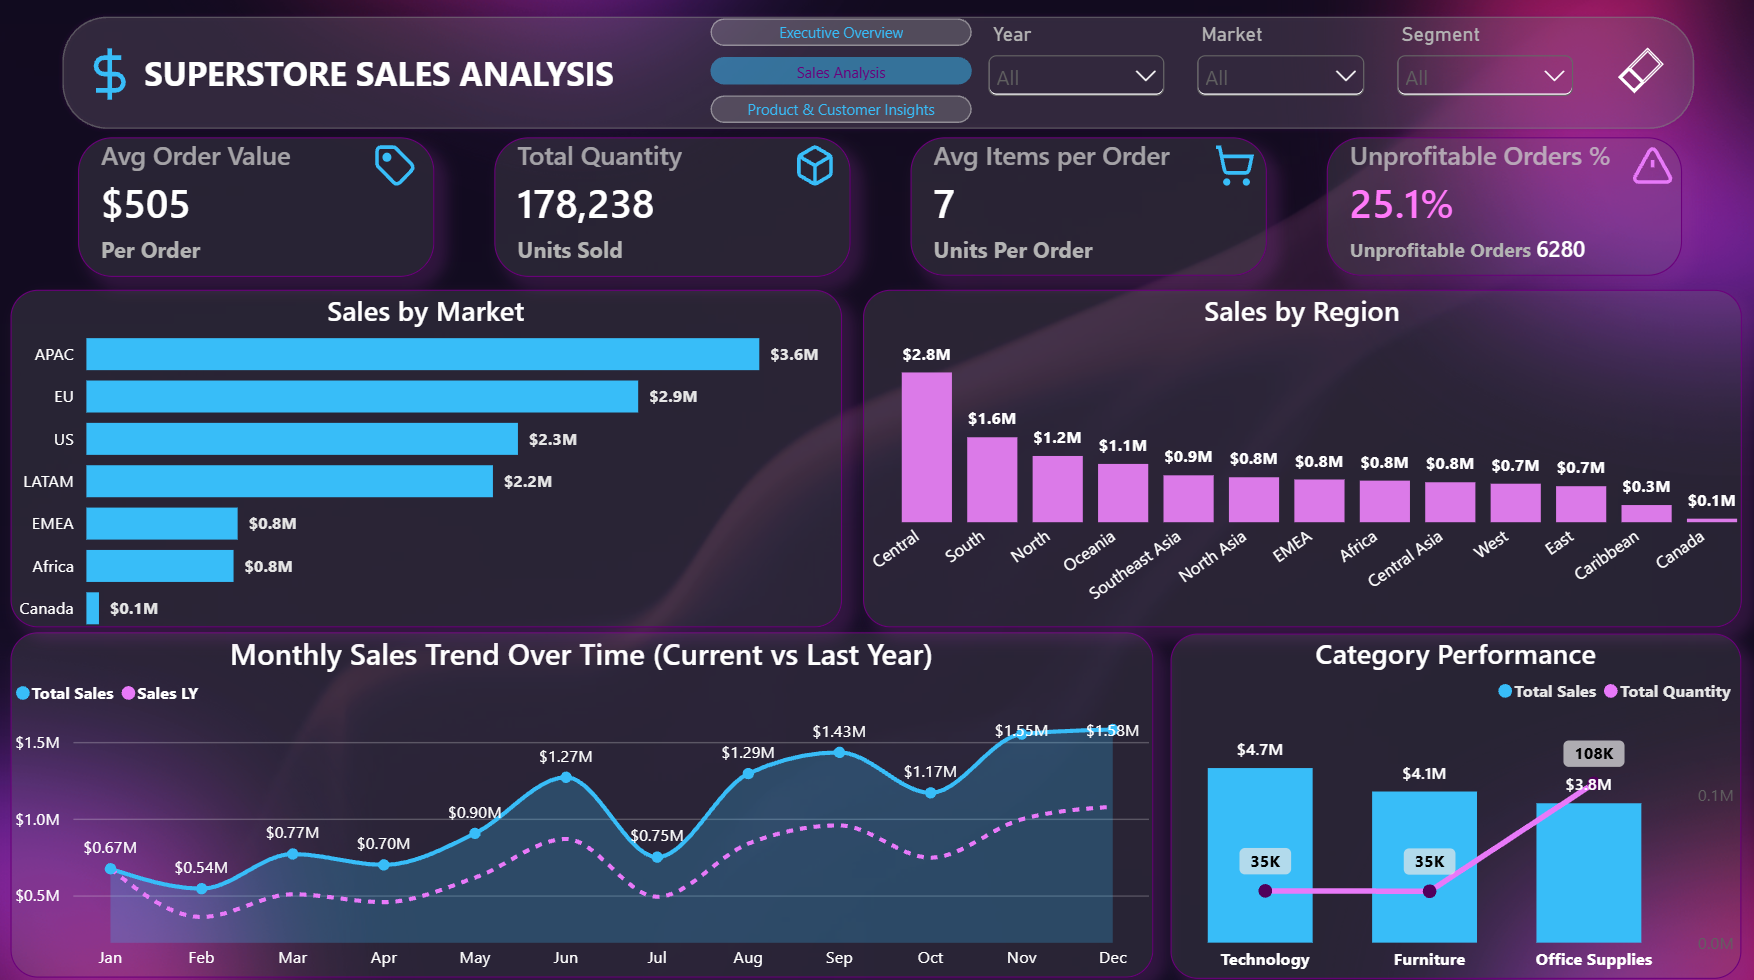

What the dashboard file says about the page in this screenshot:
{"tool":"powerbi","page":{"name":"Sales Analysis","canvas":[1280,720],"ordinal":1},"visuals":[{"type":"shape","box":[43.3,11.5,1193.2,88],"z":0},{"type":"cardVisual","fields":{"Data":["_Measures.AOV"]},"box":[57.8,102.7,258.8,101.2],"z":1000},{"type":"cardVisual","fields":{"Data":["_Measures.Total Quantity"]},"box":[360.5,102.7,258.8,101.2],"z":2000},{"type":"cardVisual","fields":{"Data":["_Measures.Unprofitable Orders %"]},"box":[966.7,102.4,258.3,101],"z":3000},{"type":"cardVisual","fields":{"Data":["_Measures.Avg Items per Order"]},"box":[663.2,102.7,258.8,101],"z":4000},{"type":"slicer","fields":{"Values":["Date_dim.Year"]},"box":[715.3,18.9,137.4,72.4],"z":5000},{"type":"slicer","fields":{"Values":["superstore_sales.market"]},"box":[866.9,18.9,131.3,72.4],"z":6000},{"type":"slicer","fields":{"Values":["superstore_sales.segment"]},"box":[1012.3,18.9,137.4,72.4],"z":7000},{"type":"lineChart","title":"Monthly Sales Trend Over Time (Current vs Last Year)","fields":{"Category":["Date_dim.Month Name"],"Y":["_Measures.Total Sales","_Measures.Sales LY"]},"box":[8.7,463.1,831,251],"z":8000},{"type":"clusteredBarChart","title":"Sales by Market","fields":{"Category":["superstore_sales.market"],"Y":["_Measures.Total Sales"]},"box":[8.7,213.5,604.5,245.3],"z":9000},{"type":"actionButton","box":[1164.3,27.4,60.7,54.9],"z":10000},{"type":"image","box":[57.7,36.1,47.9,40.5],"z":11000},{"type":"image","box":[269,107,39,31.8],"z":12000},{"type":"image","box":[574.6,107,39,31.8],"z":13000},{"type":"image","box":[880.1,107,37.6,31.8],"z":14000},{"type":"image","box":[1184.3,107,37.6,31.8],"z":15000},{"type":"columnChart","title":"Sales by Region","fields":{"Category":["superstore_sales.region"],"Y":["_Measures.Total Sales"]},"box":[629,213.5,639.1,245.3],"z":16000},{"type":"lineClusteredColumnComboChart","title":"Category Performance","fields":{"Category":["superstore_sales.category"],"Y":["_Measures.Total Sales"],"Y2":["_Measures.Total Quantity"]},"box":[852.7,463.7,415.5,251],"z":17000},{"type":"pageNavigator","box":[517.8,16,190.2,78.5],"z":18000}]}

Visuals, with their boxes in screenshot pixels (x1, y1, x2, y2), scaled from the page's 1280x720 canvas onto the 1754x980 screenshot:
shape: x1=59 y1=16 x2=1694 y2=135
cardVisual - _Measures.AOV: x1=79 y1=140 x2=434 y2=278
cardVisual - _Measures.Total Quantity: x1=494 y1=140 x2=849 y2=278
cardVisual - _Measures.Unprofitable Orders %: x1=1325 y1=139 x2=1679 y2=277
cardVisual - _Measures.Avg Items per Order: x1=909 y1=140 x2=1263 y2=277
slicer - Date_dim.Year: x1=980 y1=26 x2=1168 y2=124
slicer - superstore_sales.market: x1=1188 y1=26 x2=1368 y2=124
slicer - superstore_sales.segment: x1=1387 y1=26 x2=1575 y2=124
"Monthly Sales Trend Over Time (Current vs Last Year)" lineChart: x1=12 y1=630 x2=1151 y2=972
"Sales by Market" clusteredBarChart: x1=12 y1=291 x2=840 y2=624
actionButton: x1=1595 y1=37 x2=1679 y2=112
image: x1=79 y1=49 x2=145 y2=104
image: x1=369 y1=146 x2=422 y2=189
image: x1=787 y1=146 x2=841 y2=189
image: x1=1206 y1=146 x2=1258 y2=189
image: x1=1623 y1=146 x2=1674 y2=189
"Sales by Region" columnChart: x1=862 y1=291 x2=1738 y2=624
"Category Performance" lineClusteredColumnComboChart: x1=1168 y1=631 x2=1738 y2=973
pageNavigator: x1=710 y1=22 x2=970 y2=129
